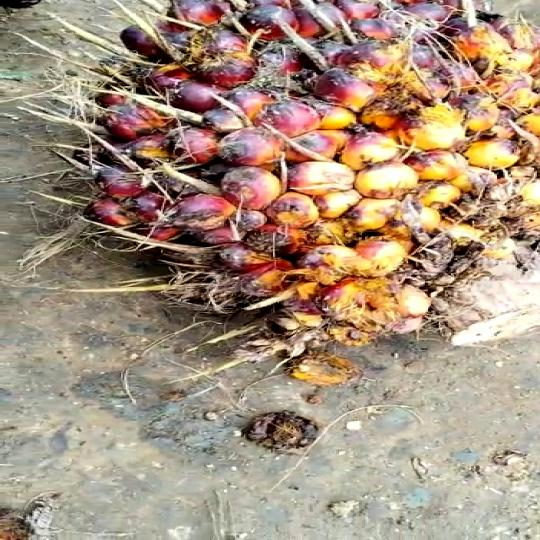masak: (44, 0, 540, 382)
